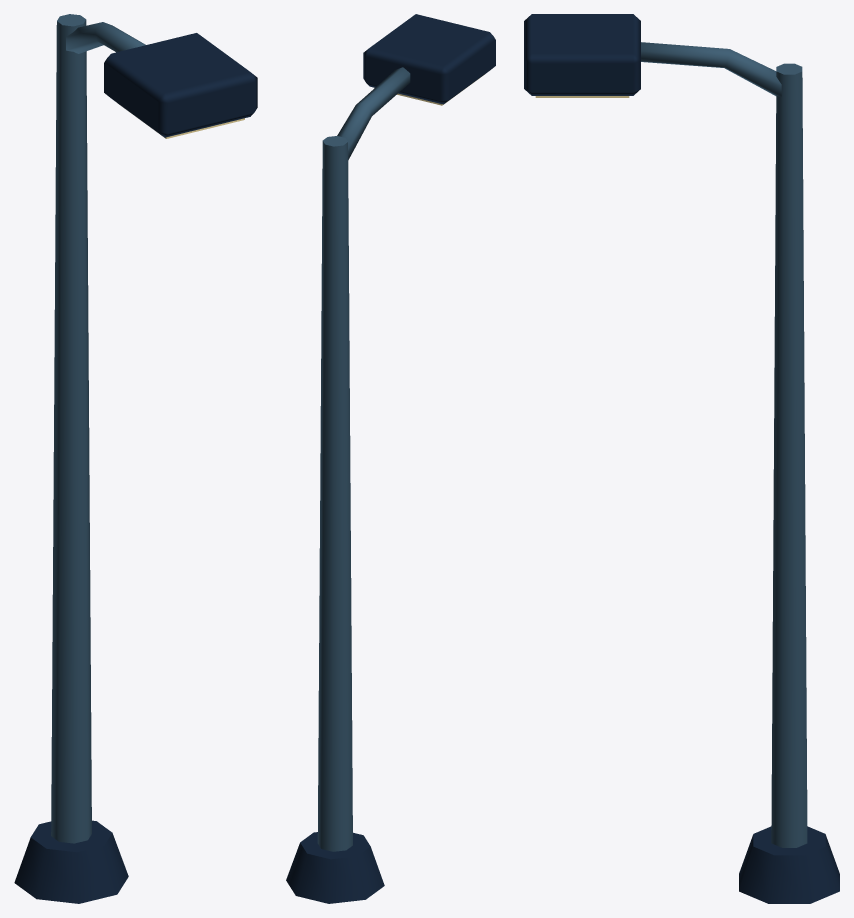
File: CM_Prop_StreetLamp.fbx
3 views of the same model, side by side, from view 1: azimuth 30°, elevation 25°; view 2: azimuth 150°, elevation 25°; view 3: azimuth 270°, elevation 25° (orthographic). The views are drawn at different scales.
Visible parts, largest first — view 1: Body; view 2: Body; view 3: Body.
Boxes of the visible parts, x1=… form: Body: x1=14, y1=14, x2=257, y2=903; Body: x1=286, y1=14, x2=495, y2=903; Body: x1=524, y1=14, x2=839, y2=903.
Bounding box in the file's own units: 1.4 × 4.05 × 12.
Materials: 1 (1 with a texture image).
